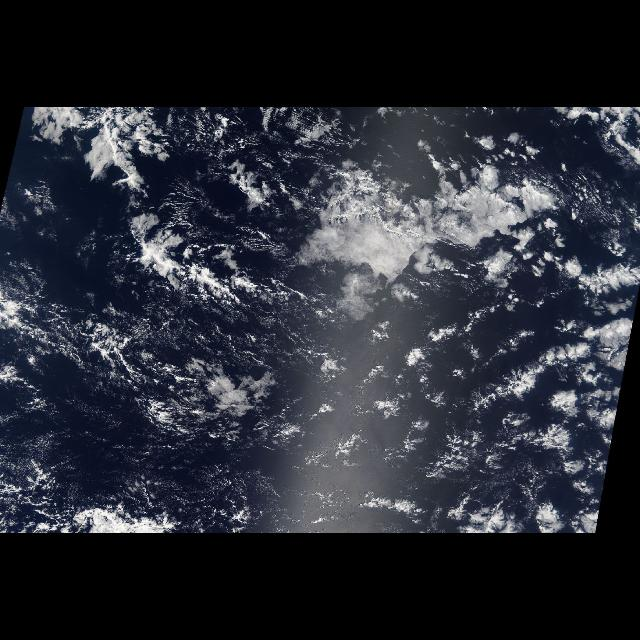Flower: (183, 141, 635, 533)
Gravel: (112, 284, 360, 522)
